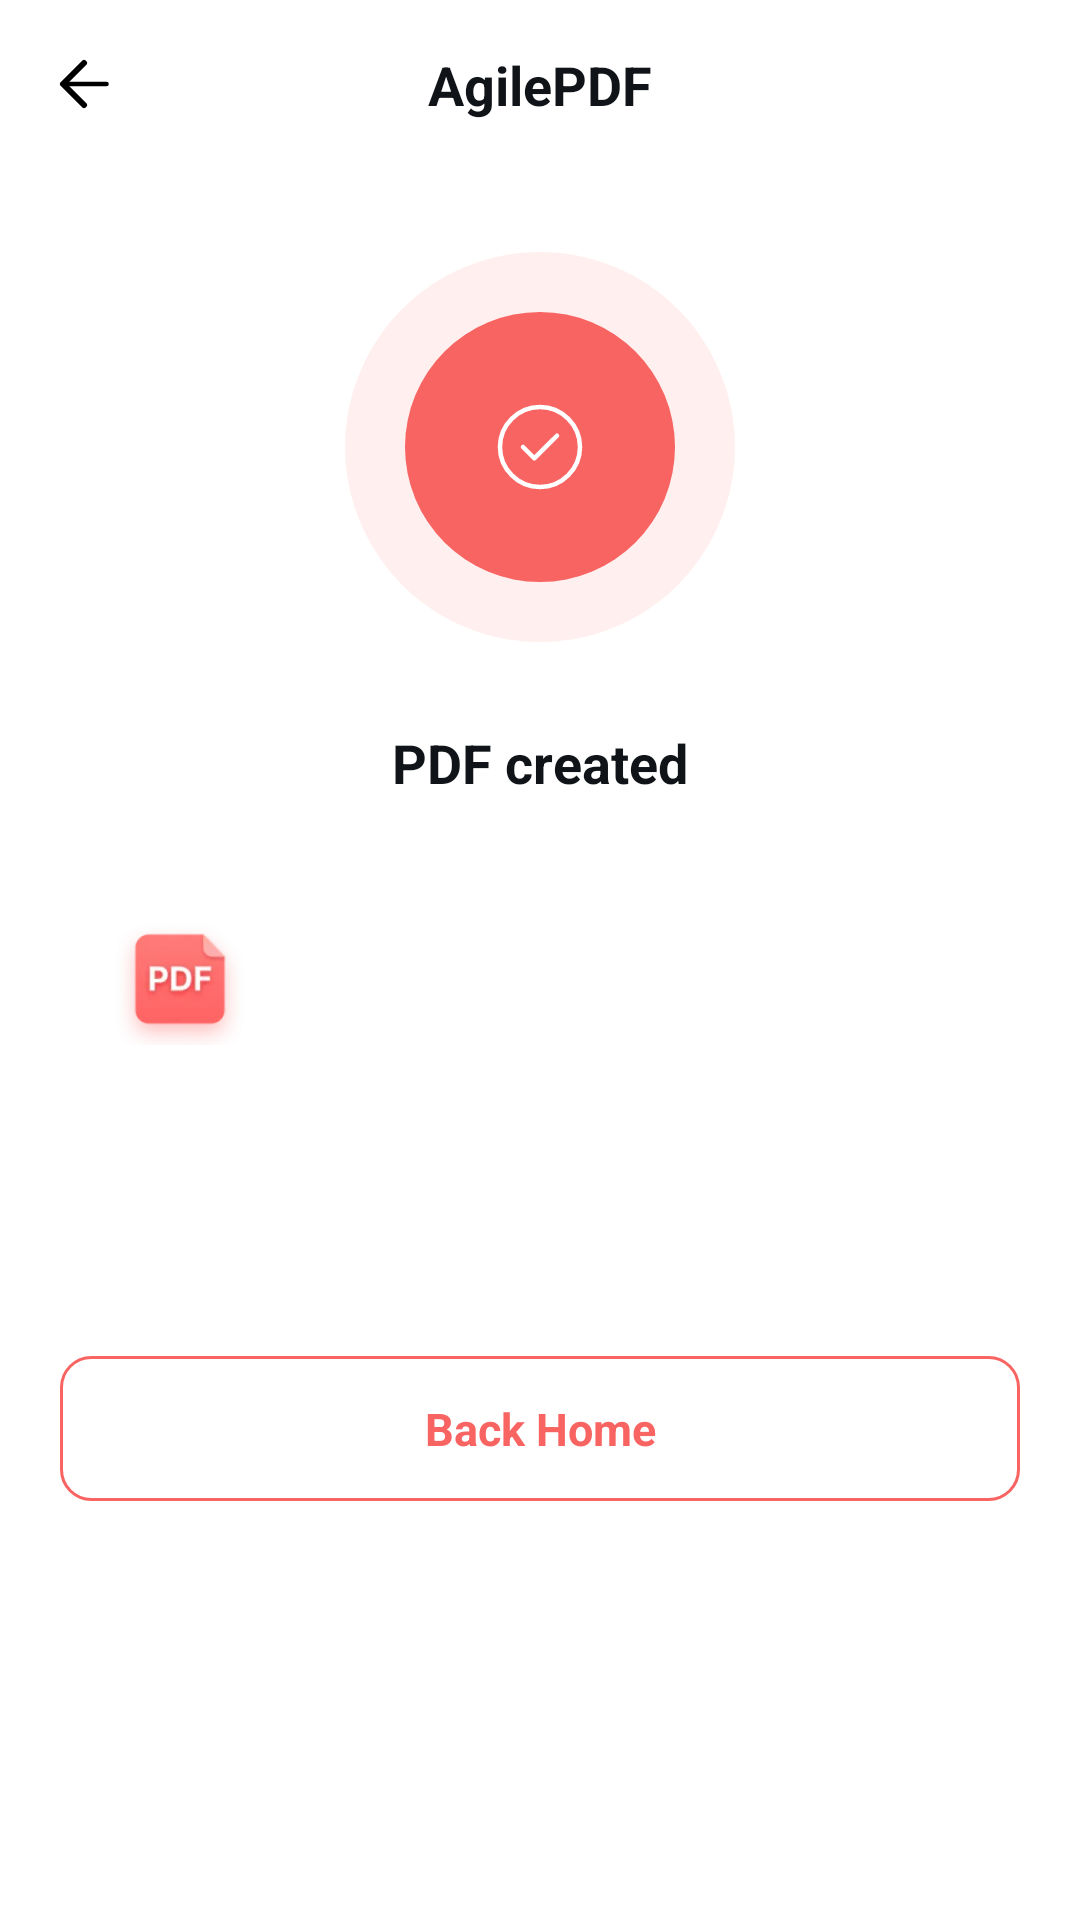

Icons on this 1080 × 1920 Android screen, each with its box as (x1, y1, x2, y2):
go back: (60, 60, 109, 108)
result completed: (405, 312, 675, 582)
